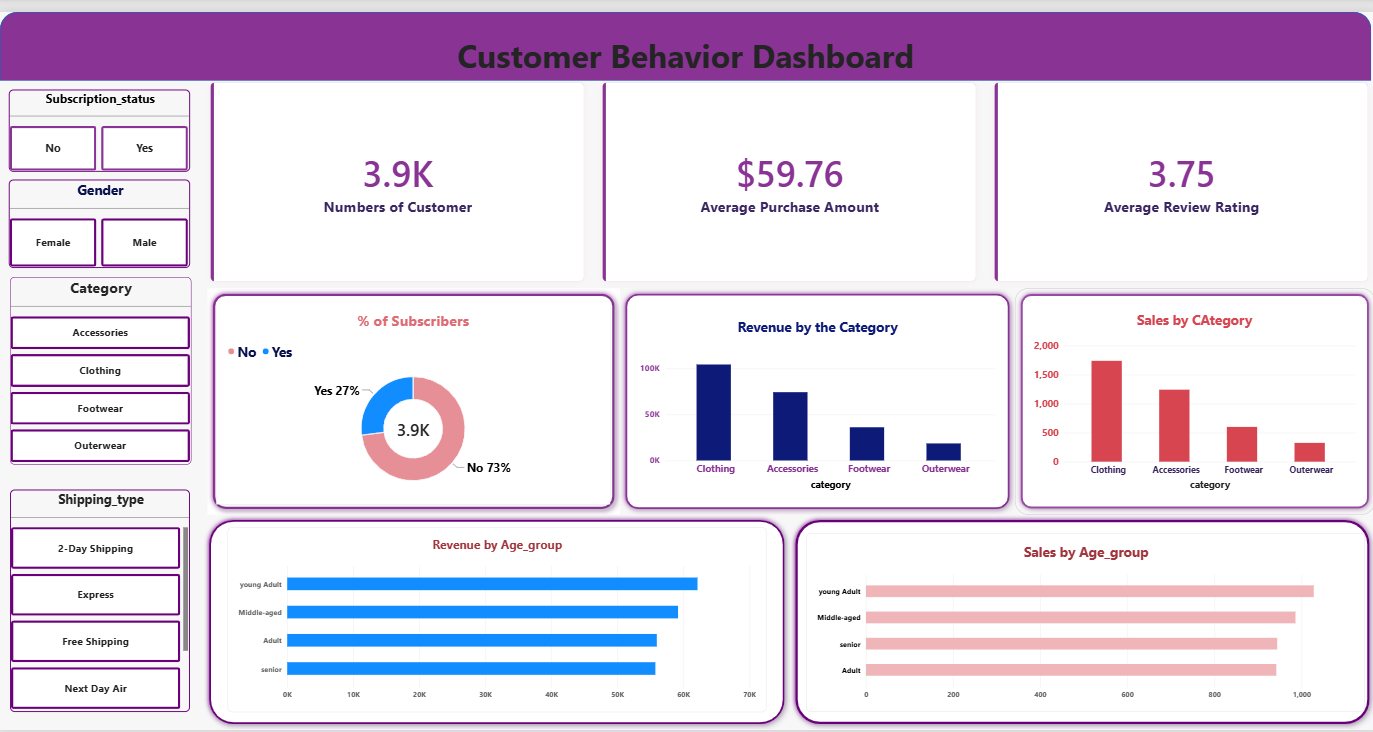

The dashboard page shown, as its layout file describes it:
{"tool":"powerbi","page":{"name":"Page 1","canvas":[2300,1200],"ordinal":0},"visuals":[{"type":"cardVisual","fields":{"Data":["CustomerShoppingBehavior.Numbers of Customer","CustomerShoppingBehavior.Average Purchase Amount","CustomerShoppingBehavior.Average Review Rating"]},"box":[340.6,106.6,1959.9,355.2],"z":0},{"type":"shape","box":[0,0,2292.1,114.9],"z":1000},{"type":"textbox","box":[0,35.5,2292.1,94],"z":2000},{"type":"shape","box":[346.8,461.8,689.5,378.2],"z":3000},{"type":"shape","box":[1036.3,461.8,660.2,378.2],"z":4000},{"type":"shape","box":[1696.6,461.8,601.7,378.2],"z":5000},{"type":"clusteredColumnChart","title":"Revenue  by the Category","fields":{"Category":["CustomerShoppingBehavior.category"],"Y":["Sum(CustomerShoppingBehavior.purchase_amount)"]},"box":[1053.1,495.2,626.8,319.7],"z":6000},{"type":"clusteredColumnChart","title":"Sales by CAtegory","fields":{"Category":["CustomerShoppingBehavior.category"],"Y":["CountNonNull(CustomerShoppingBehavior.customer_id)"]},"box":[1711.2,484.7,570.4,330.1],"z":7000},{"type":"advancedSlicerVisual","title":"Subscription_status","fields":{"Values":["CustomerShoppingBehavior.subscription_status"]},"box":[14.6,129.5,303,137.9],"z":8000},{"type":"advancedSlicerVisual","title":"Gender","fields":{"Values":["CustomerShoppingBehavior.gender"]},"box":[14.6,280,303,148.3],"z":9000},{"type":"donutChart","title":"% of Subscribers","fields":{"Category":["CustomerShoppingBehavior.subscription_status"],"Y":["CountNonNull(CustomerShoppingBehavior.customer_id)"]},"box":[361.5,484.7,658.2,338.5],"z":10000},{"type":"advancedSlicerVisual","title":"Category","fields":{"Values":["CustomerShoppingBehavior.category"]},"box":[16.7,443,303,313.4],"z":11000},{"type":"advancedSlicerVisual","title":"Shipping_type","fields":{"Values":["CustomerShoppingBehavior.shipping_type"]},"box":[16.7,798.1,300.9,371.9],"z":12000},{"type":"shape","box":[340.6,839.9,979.9,359.4],"z":13000},{"type":"clusteredBarChart","title":"Revenue by Age_group","fields":{"Category":["CustomerShoppingBehavior.age_group"],"Y":["Sum(CustomerShoppingBehavior.purchase_amount)"]},"box":[380.3,860.8,900.5,309.2],"z":14000},{"type":"shape","box":[1320.5,839.9,977.8,359.4],"z":14001},{"type":"clusteredBarChart","title":"Sales by Age_group","fields":{"Category":["CustomerShoppingBehavior.age_group"],"Y":["CountNonNull(CustomerShoppingBehavior.customer_id)"]},"box":[1347.7,871.3,934,298.8],"z":14002}]}

Visuals, with their boxes in screenshot pixels (x1, y1, x2, y2), scaled from the page's 2300x1200 canvas onto the 1373x732 screenshot:
cardVisual - CustomerShoppingBehavior.Numbers of Customer x CustomerShoppingBehavior.Average Purchase Amount: detection(203, 65, 1372, 282)
shape: detection(0, 0, 1368, 70)
textbox: detection(0, 22, 1368, 79)
shape: detection(207, 282, 619, 512)
shape: detection(619, 282, 1013, 512)
shape: detection(1013, 282, 1372, 512)
"Revenue  by the Category" clusteredColumnChart: detection(629, 302, 1003, 497)
"Sales by CAtegory" clusteredColumnChart: detection(1022, 296, 1362, 497)
"Subscription_status" advancedSlicerVisual: detection(9, 79, 190, 163)
"Gender" advancedSlicerVisual: detection(9, 171, 190, 261)
"% of Subscribers" donutChart: detection(216, 296, 609, 502)
"Category" advancedSlicerVisual: detection(10, 270, 191, 461)
"Shipping_type" advancedSlicerVisual: detection(10, 487, 190, 714)
shape: detection(203, 512, 788, 731)
"Revenue by Age_group" clusteredBarChart: detection(227, 525, 765, 714)
shape: detection(788, 512, 1372, 731)
"Sales by Age_group" clusteredBarChart: detection(805, 531, 1362, 714)
